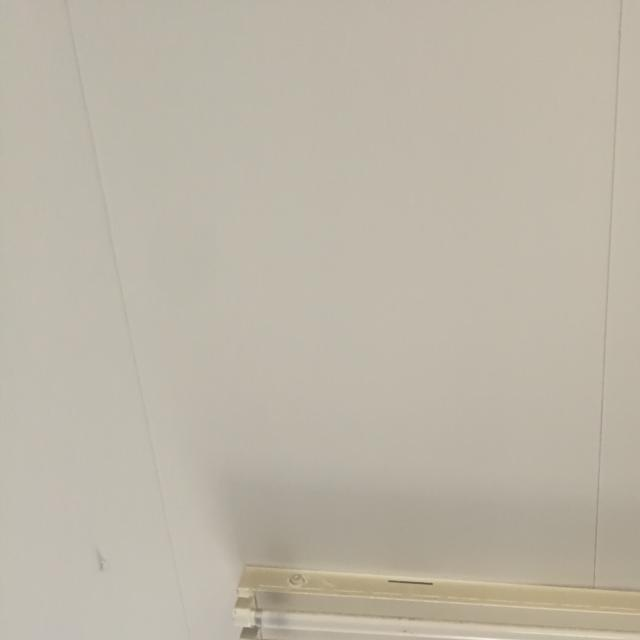fluorescent tube: (195, 544, 640, 640)
